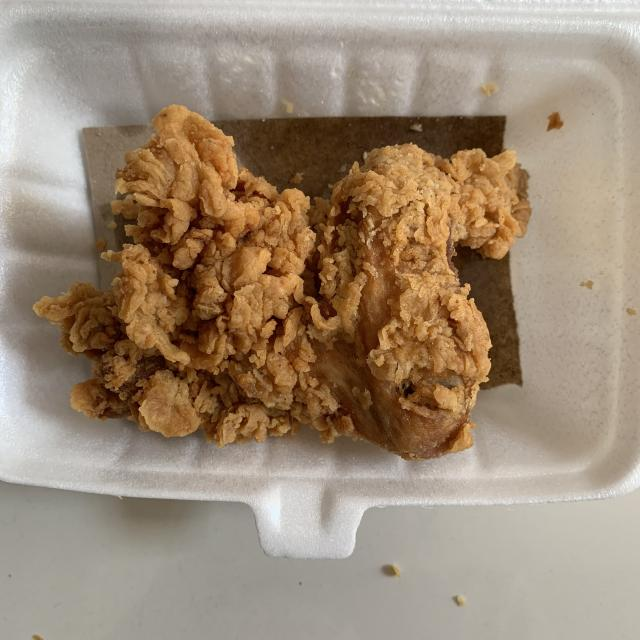Wet Waste: (34, 104, 530, 464)
